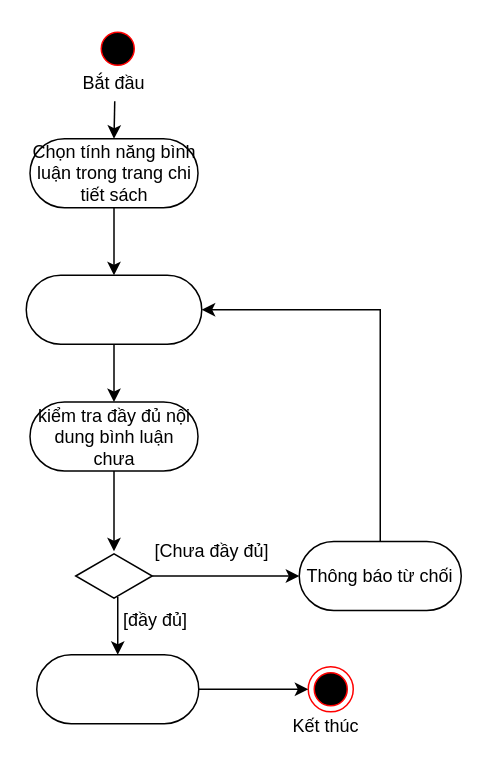
Some shapes in this 488 by 764 pixel diagram are drawn without their labels. Each missing label, with the centre of its shape:
Nhập bình luận, đánh giá số sao: the point at 113,309
Thông báo bình luận thành công: the point at 117,688
